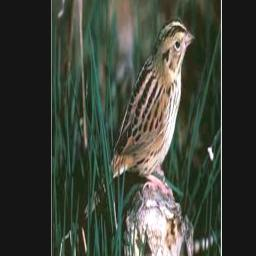Sparrow: (68, 16, 195, 233)
